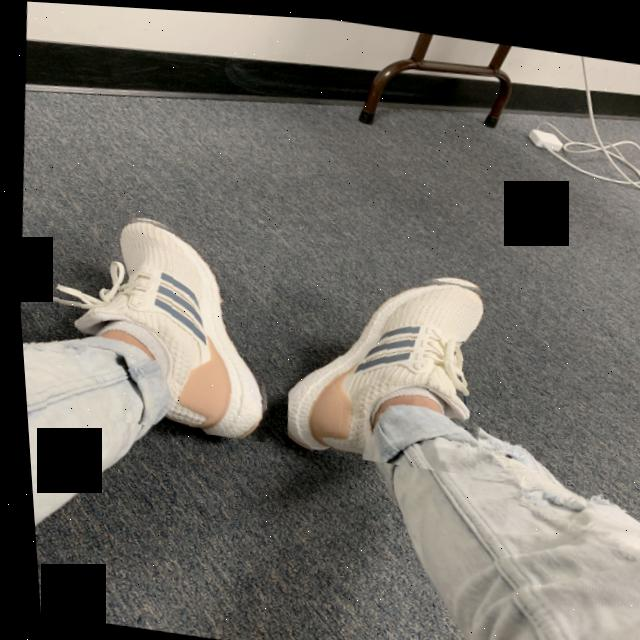shoe: (30, 201, 281, 440), (270, 248, 497, 473)
